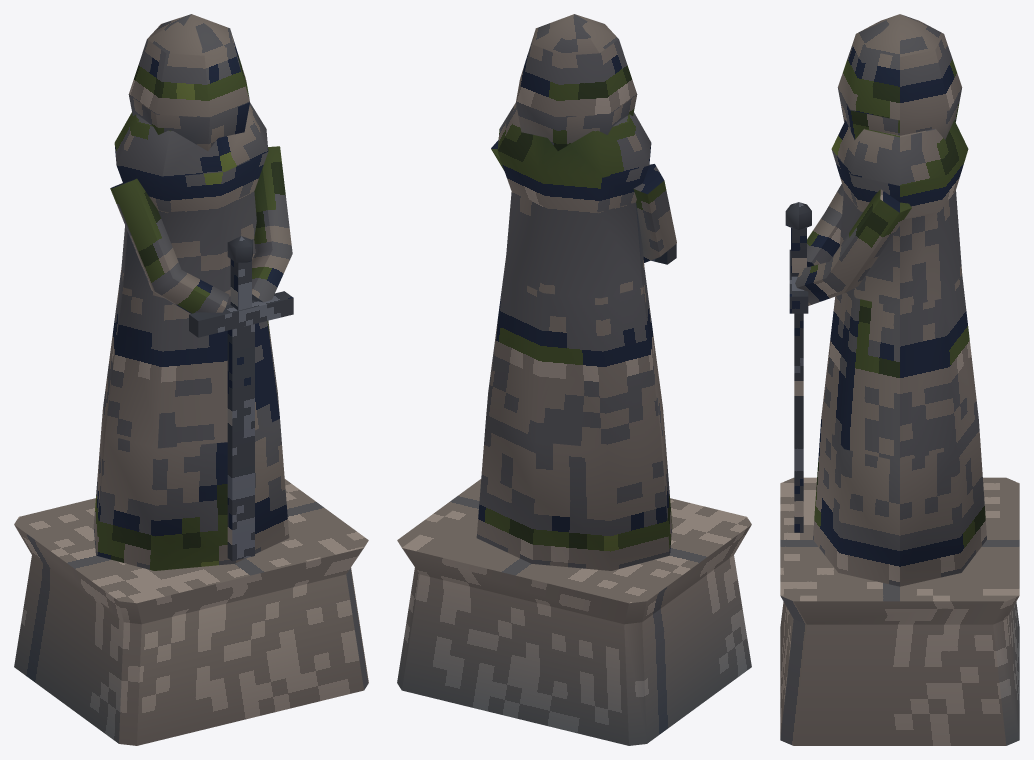
Rendered from dprop.statue.glb.
3 views of the same model, side by side, from view 1: azimuth 30°, elevation 25°; view 2: azimuth 150°, elevation 25°; view 3: azimuth 270°, elevation 25° (orthographic).
Visible parts, largest first — view 1: kit_figure, kit_sword, kit_arms; view 2: kit_figure, kit_arms; view 3: kit_figure, kit_arms, kit_sword.
Part boxes in pixels (x1,y1,x2,y2): kit_figure: (14, 14, 368, 745); kit_sword: (189, 236, 293, 561); kit_arms: (110, 146, 292, 313); kit_figure: (397, 14, 751, 745); kit_arms: (491, 140, 676, 262); kit_figure: (780, 14, 1019, 745); kit_arms: (795, 184, 911, 305); kit_sword: (785, 202, 811, 532).
Size of the model in its own units: 1.1 by 2.78 by 0.9.
4 materials, 4 textured.
